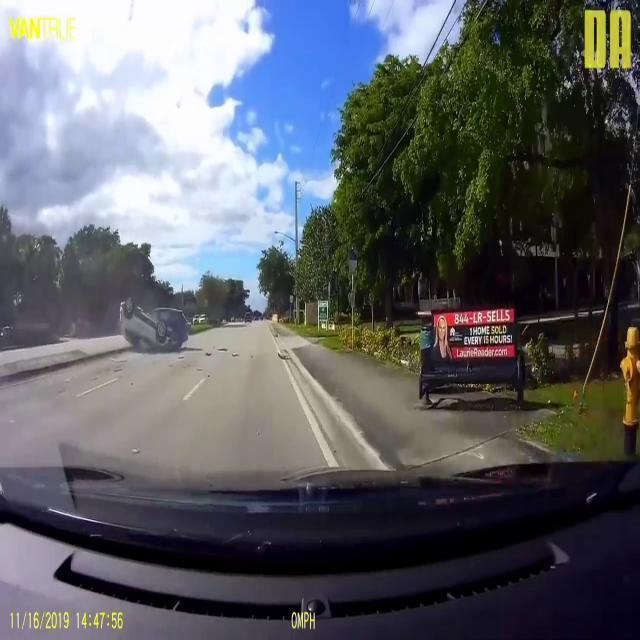accident: (118, 296, 192, 354)
non-accident: (192, 313, 208, 325)
